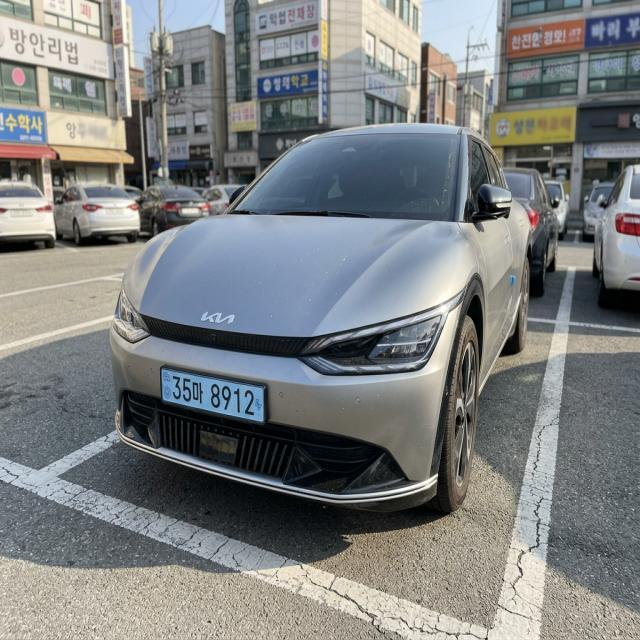car: (139, 359, 310, 435)
carev: (161, 364, 174, 411), (253, 380, 267, 420)
